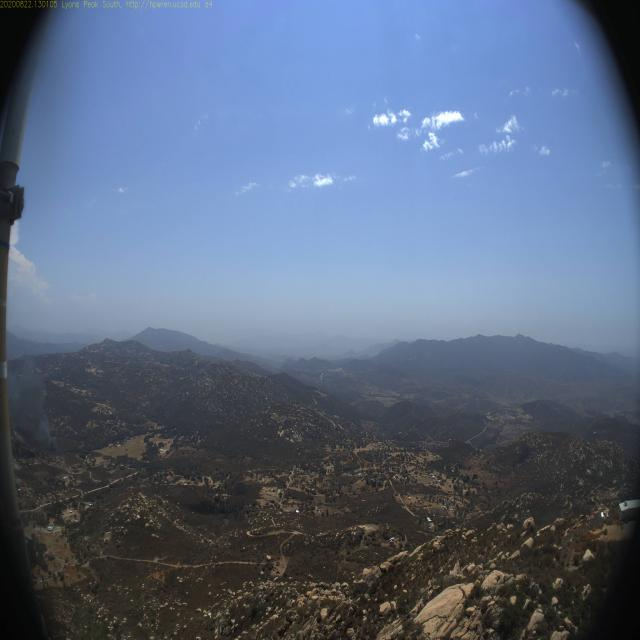smoke: (10, 366, 60, 455)
